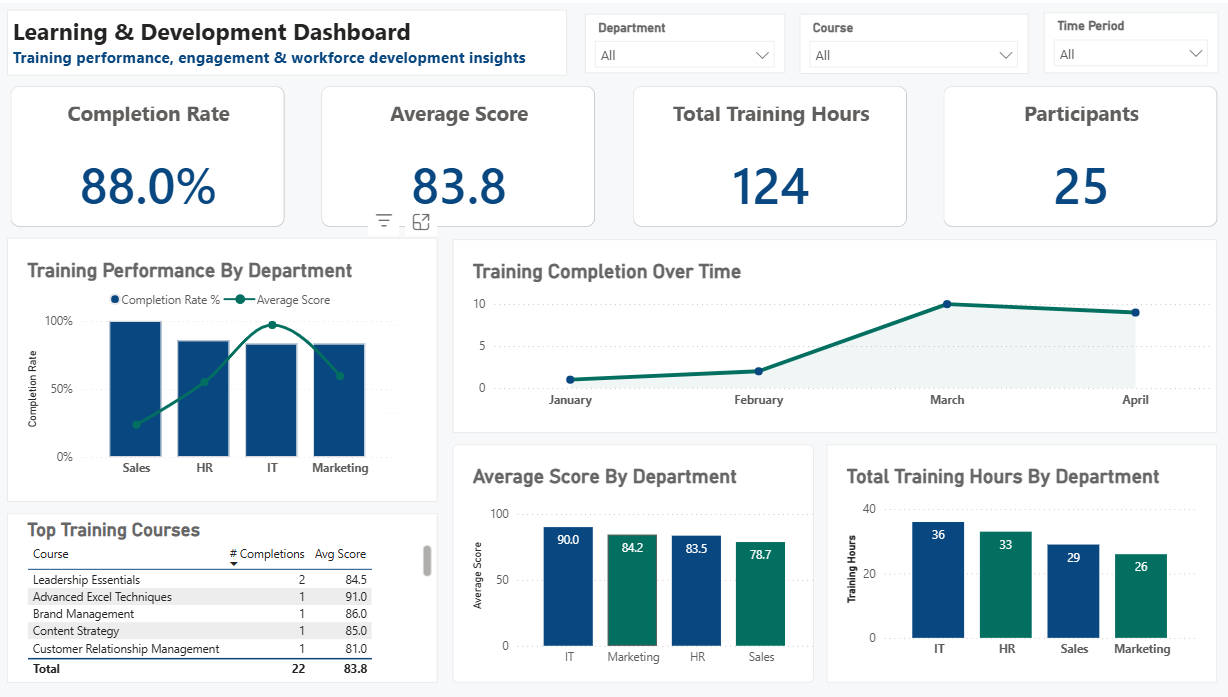

Layout of this report page (visuals, bound fields, positions):
{"tool":"powerbi","page":{"name":"Page 1","canvas":[1280,720],"ordinal":0},"visuals":[{"type":"cardVisual","title":"Completion Rate","fields":{"Data":["Training_data.Completion Rate"]},"box":[4,74.5,308.1,170.6],"z":0},{"type":"cardVisual","title":"Completion Rate","fields":{"Data":["Training_data.Average Score"]},"box":[326.3,74.5,308.1,170.6],"z":1000},{"type":"cardVisual","title":"Completion Rate","fields":{"Data":["Training_data.Total Training Hours"]},"box":[648.7,74.5,308.1,170.6],"z":2000},{"type":"lineClusteredColumnComboChart","title":"Average Score By Department","fields":{"Category":["Training_data.Department"],"Y":["Training_data.Average Score"]},"box":[473.8,457.2,374.4,246.8],"z":3000},{"type":"lineChart","title":"Training Completion Over Time","fields":{"Category":["Training_data.Completion_Date.Variation.Date Hierarchy.Month"],"Y":["CountNonNull(Training_data.Employee_ID)"]},"box":[473.8,245.2,791.8,200.4],"z":4000},{"type":"slicer","fields":{"Values":["Training_data.Department"]},"box":[610.7,11.6,207.1,61.3],"z":5000},{"type":"slicer","fields":{"Values":["Training_data.Course_Name"]},"box":[833.5,10.9,236.9,62],"z":6000},{"type":"slicer","title":"Last12 Months","fields":{"Values":["Training_data.Completion_Date.Variation.Date Hierarchy.Month"]},"box":[1086.1,9.9,180.6,62.9],"z":7000},{"type":"lineStackedColumnComboChart","title":"Training Performance By Department","fields":{"Category":["Training_data.Department"],"Y":["Training_data.Completion Rate %"],"Y2":["Training_data.Average Score"]},"box":[13.3,243.5,445.6,273.3],"z":8000},{"type":"clusteredColumnChart","title":"Total Training Hours By Department","fields":{"Category":["Training_data.Department"],"Y":["Sum(Training_data.Training_Hours)"]},"box":[861.4,457.2,404.2,246.8],"z":9000},{"type":"tableEx","title":"Top Training Courses","fields":{"Values":["Training_data.Course_Name","Training_data.Completed Trainings","Training_data.Average Score"]},"box":[13.3,528.4,446,175.6],"z":10000},{"type":"cardVisual","title":"Completion Rate","fields":{"Data":["Training_data.Participants"]},"box":[971,74.5,308.1,170.6],"z":11000},{"type":"textbox","box":[13.3,6.6,579.8,67.9],"z":12000}]}

Visuals, with their boxes in screenshot pixels (x1, y1, x2, y2), scaled from the page's 1280x720 canvas onto the 1228x697 screenshot:
"Completion Rate" cardVisual: 4/72/299/237
"Completion Rate" cardVisual: 313/72/609/237
"Completion Rate" cardVisual: 622/72/918/237
"Average Score By Department" lineClusteredColumnComboChart: 455/443/814/682
"Training Completion Over Time" lineChart: 455/237/1214/431
slicer - Training_data.Department: 586/11/785/71
slicer - Training_data.Course_Name: 800/11/1027/71
"Last12 Months" slicer: 1042/10/1215/70
"Training Performance By Department" lineStackedColumnComboChart: 13/236/440/500
"Total Training Hours By Department" clusteredColumnChart: 826/443/1214/682
"Top Training Courses" tableEx: 13/512/441/682
"Completion Rate" cardVisual: 932/72/1227/237
textbox: 13/6/569/72
